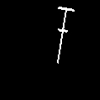double_crochet: (57, 7, 73, 62)
